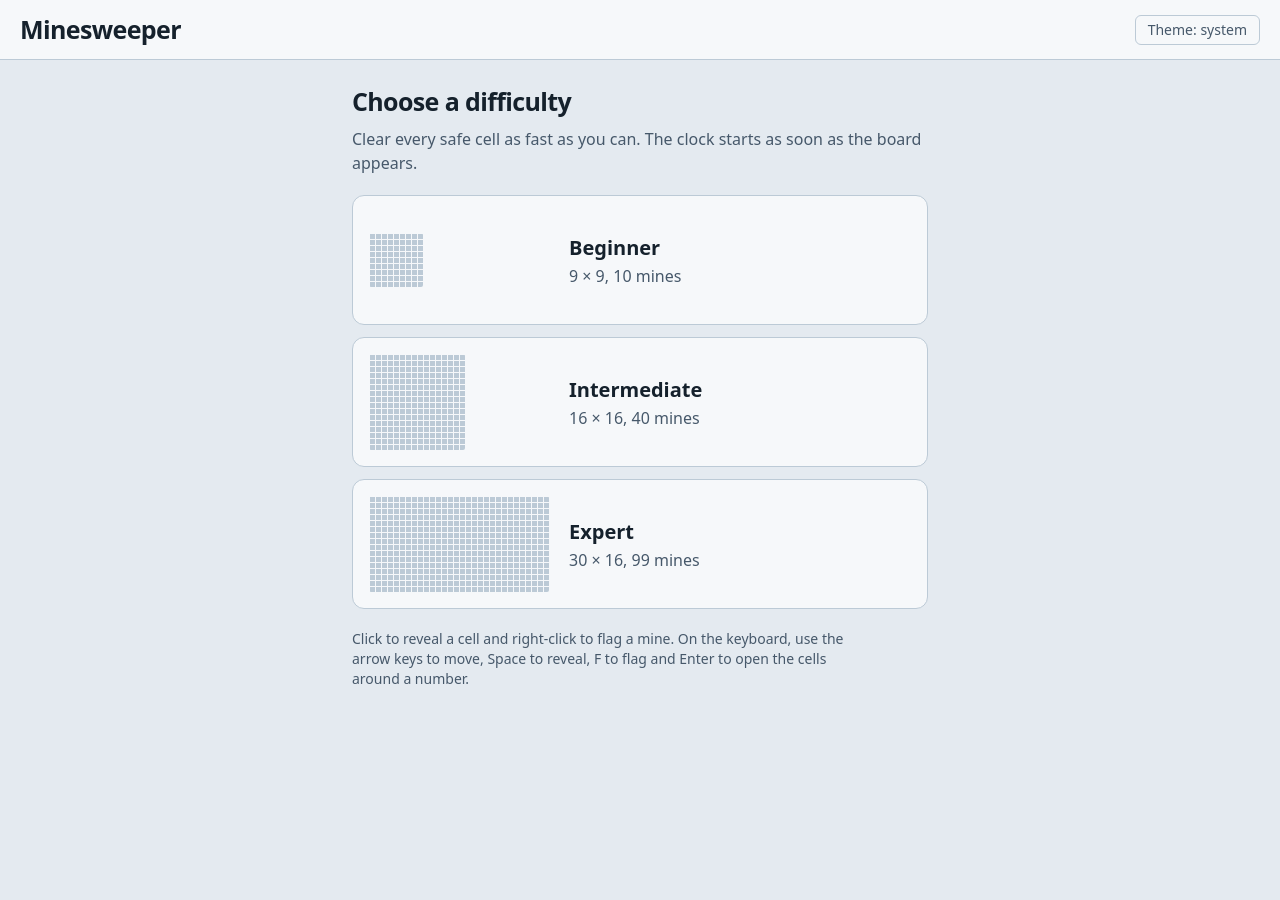
Test: App statistics (plain) › records a won game once, with its time
Click the button "Beginner 9 × 9, 10 mines" at (640, 260), box [352, 195, 928, 325]
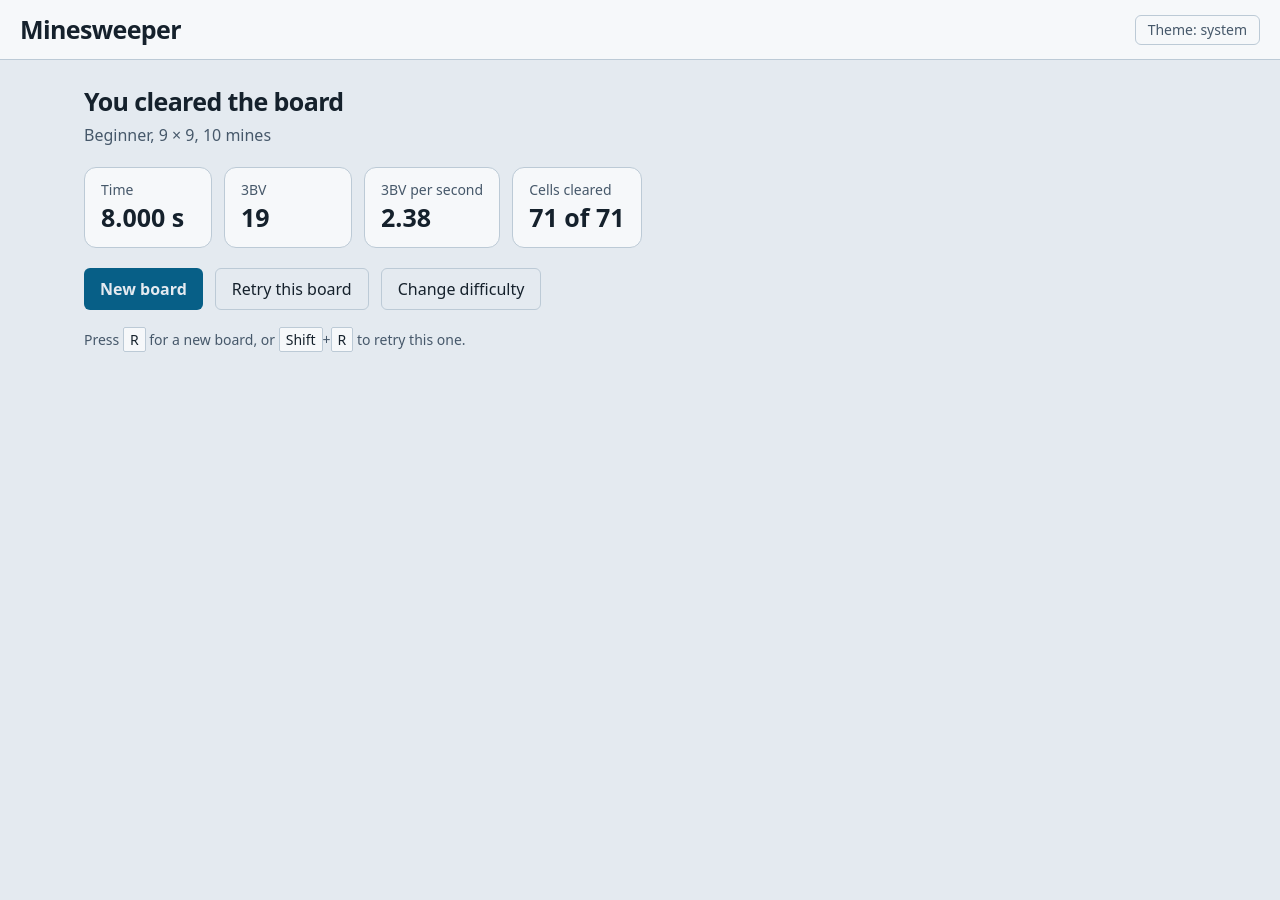
Result: the heading "You cleared the board" is shown at [84, 84, 344, 118]
